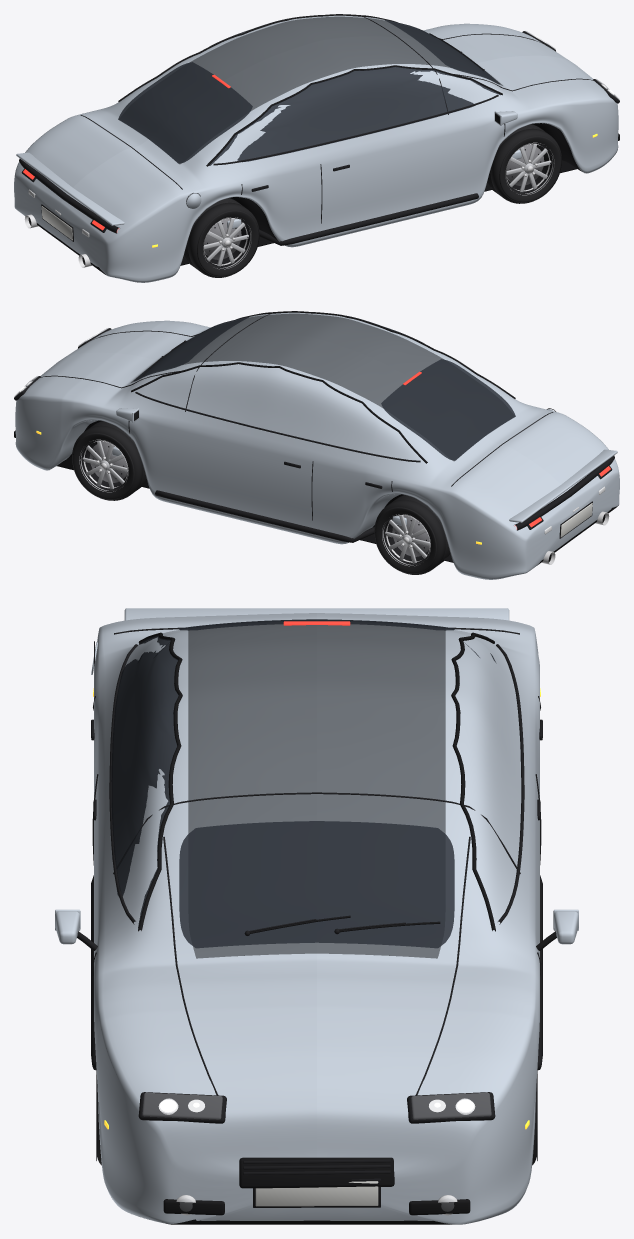
3 renders of one model, top to bottom at view 1: azimuth 30°, elevation 25°; view 2: azimuth 150°, elevation 25°; view 3: azimuth 270°, elevation 25°, orthographic. The views are drawn at different scales.
Visible parts, largest first — view 1: body, glass_side_R, glass_screen_1, wheel_RR_tyre, wheel_FR_tyre, glass_screen_0, side_skirt, wing_lip, tail_housing, seal_R, belt_trim, seal_L (+5 smaller); view 2: body, glass_screen_1, wheel_RL_tyre, wheel_FL_tyre, glass_screen_0, side_skirt.001, wing_lip, seal_L, tail_housing, belt_trim.001, seal_R, wheel_RL_disc (+4 smaller); view 3: body, glass_screen_0, glass_side_R, grille_back, wing_lip, plate_front, head_housing, head_housing.001, head_lens.001, head_lens, seal_L, seal_R (+6 smaller).
Boxes of the visible parts, x1,y1,x2,y2 form: body: [14, 15, 618, 282]; glass_side_R: [209, 66, 500, 165]; glass_screen_1: [118, 62, 252, 163]; wheel_RR_tyre: [183, 198, 259, 277]; wheel_FR_tyre: [487, 124, 561, 203]; glass_screen_0: [385, 20, 499, 84]; side_skirt: [259, 193, 478, 245]; wing_lip: [16, 152, 124, 225]; tail_housing: [19, 158, 119, 233]; seal_R: [206, 65, 502, 166]; belt_trim: [213, 95, 498, 165]; seal_L: [118, 14, 397, 101]; body: [15, 312, 619, 579]; glass_screen_1: [381, 359, 515, 460]; wheel_RL_tyre: [374, 495, 450, 574]; wheel_FL_tyre: [72, 421, 146, 500]; glass_screen_0: [134, 317, 248, 381]; side_skirt.001: [155, 490, 374, 542]; wing_lip: [509, 449, 617, 522]; seal_L: [131, 362, 427, 463]; tail_housing: [514, 455, 614, 530]; belt_trim.001: [135, 392, 420, 462]; seal_R: [236, 311, 515, 398]; wheel_RL_disc: [392, 515, 429, 556]; body: [94, 613, 539, 1224]; glass_screen_0: [179, 821, 454, 948]; glass_side_R: [111, 635, 178, 927]; grille_back: [239, 1157, 394, 1188]; wing_lip: [124, 608, 509, 620]; plate_front: [255, 1181, 378, 1206]; head_housing: [138, 1092, 226, 1123]; head_housing.001: [407, 1092, 495, 1123]; head_lens.001: [411, 1092, 491, 1119]; head_lens: [142, 1092, 222, 1119]; seal_L: [451, 632, 495, 931]; seal_R: [138, 632, 182, 931].
Size of the model in its own units: 4.79 by 1.39 by 2.05.
